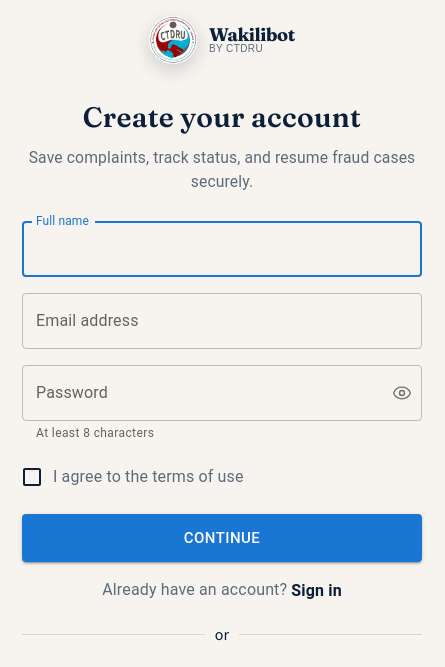
Test: rejects an invalid email address
Type "Jane Doe" into the field labelled "Full name" at (222, 249), box [22,221,422,277]
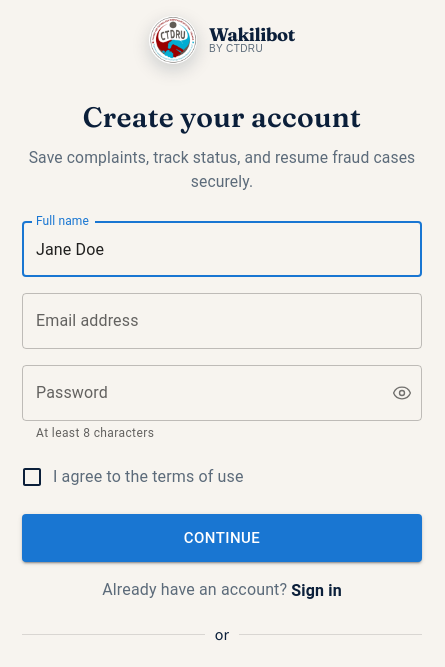
Type "not-an-email" into the field labelled "Email address" at (222, 321), box [22,293,422,349]
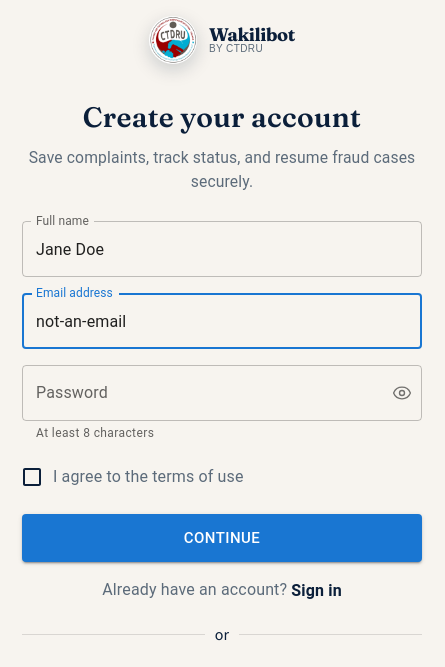
Type "password123" into the password field labelled "Password" at (199, 393), box [22,365,376,421]
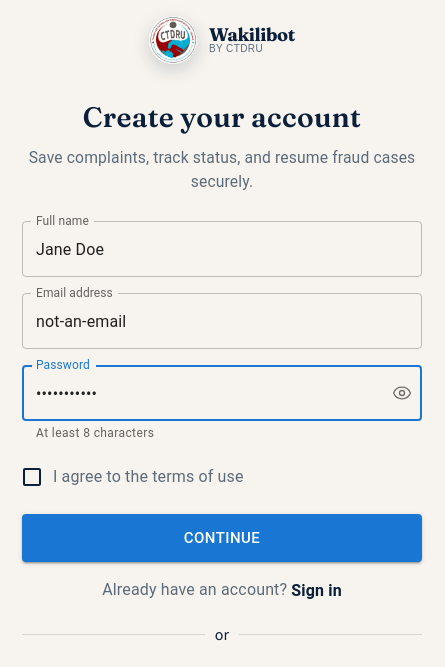
Click the checkbox labelled "I agree to the terms of use" at (132, 477), box [20,465,244,489]
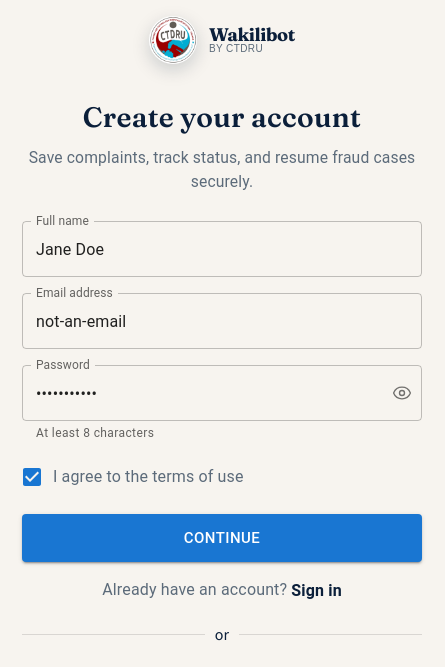
Click the button "Continue" at (222, 538), box [22,514,422,562]
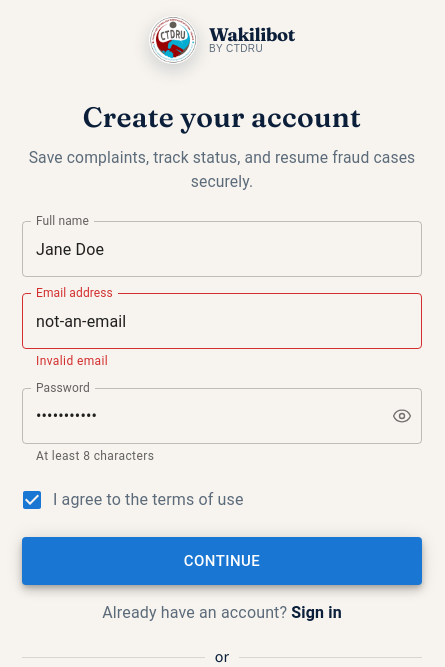
Now the text "Invalid email" is shown, box [36,354,108,368]
